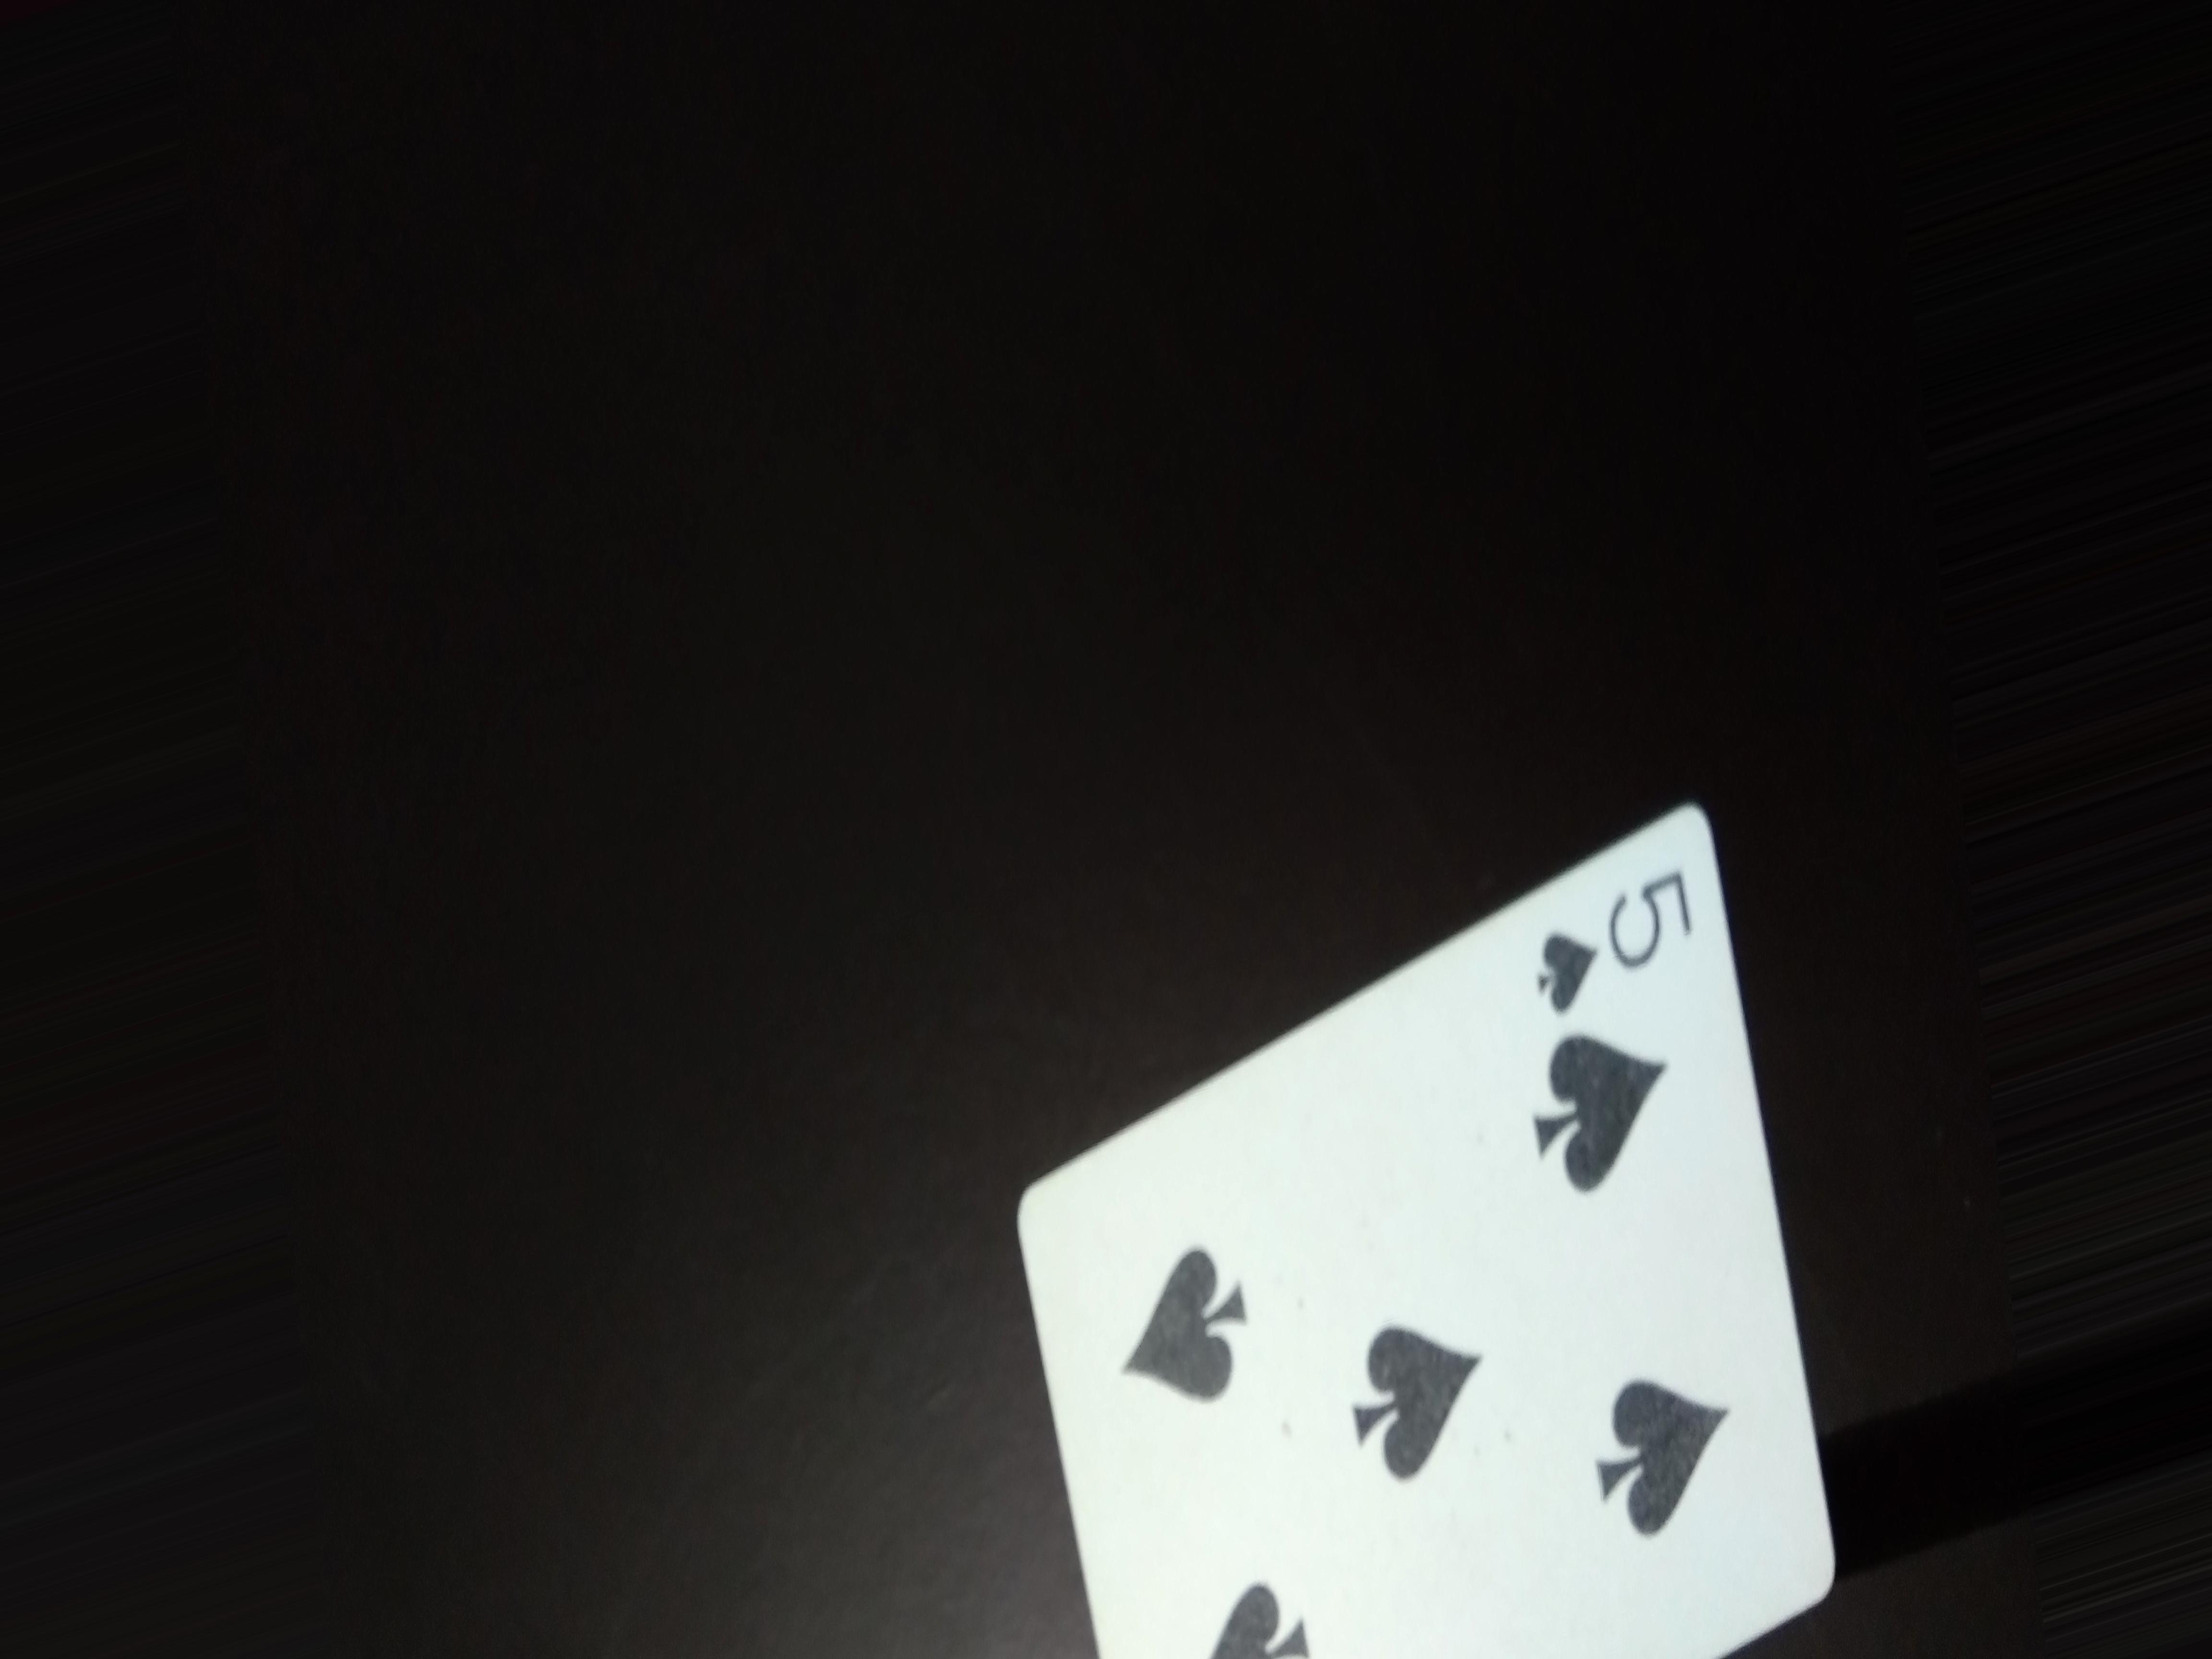5S: (1522, 849, 1712, 1018)
